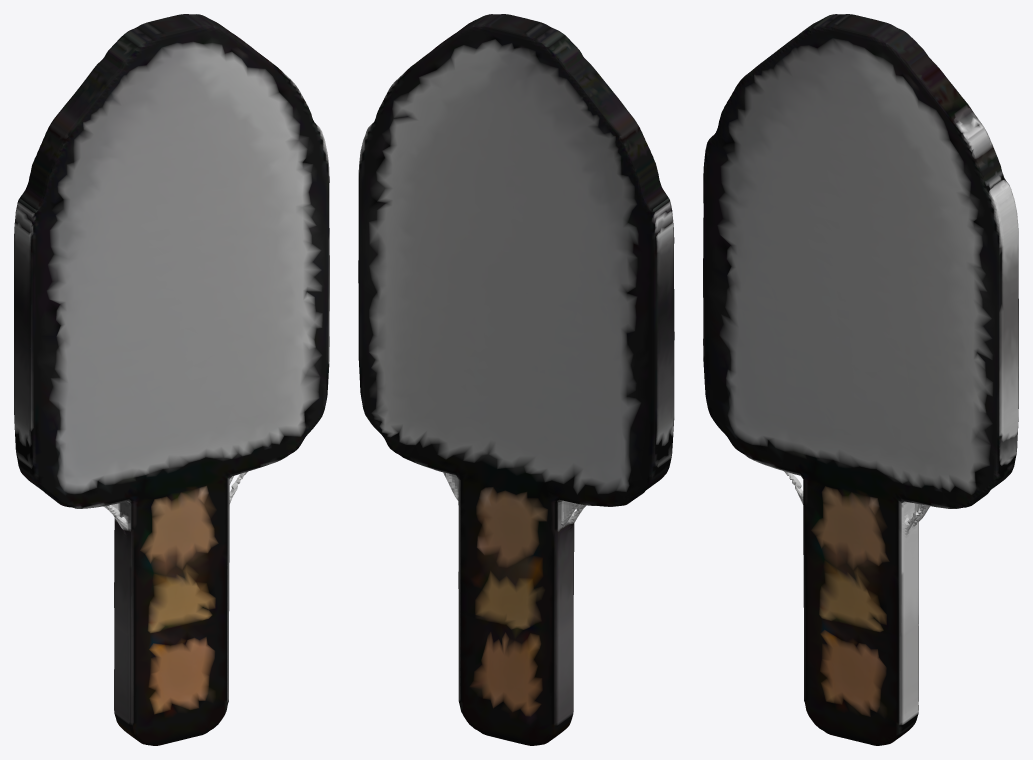
The model's file is giants_knife.glb.
3 views of the same model, side by side, from view 1: azimuth 30°, elevation 25°; view 2: azimuth 150°, elevation 25°; view 3: azimuth 330°, elevation 25° (orthographic).
Parts seen in each view (by area): view 1: geometry_0; view 2: geometry_0; view 3: geometry_0.
Boxes of the visible parts, x1,y1,x2,y2 form: geometry_0: (14, 14, 329, 745); geometry_0: (358, 14, 674, 745); geometry_0: (703, 14, 1018, 745).
Size of the model in its own units: 0.375 by 0.8505 by 0.0411.
